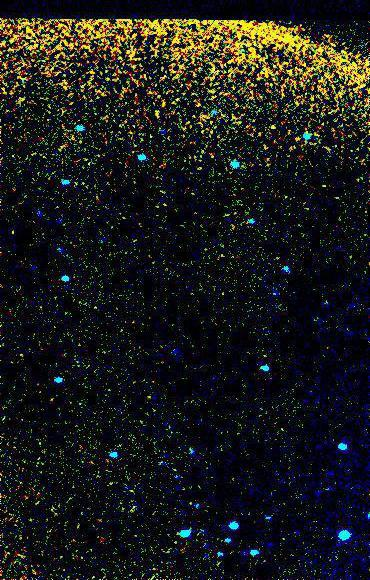star: (255, 116, 285, 146)
